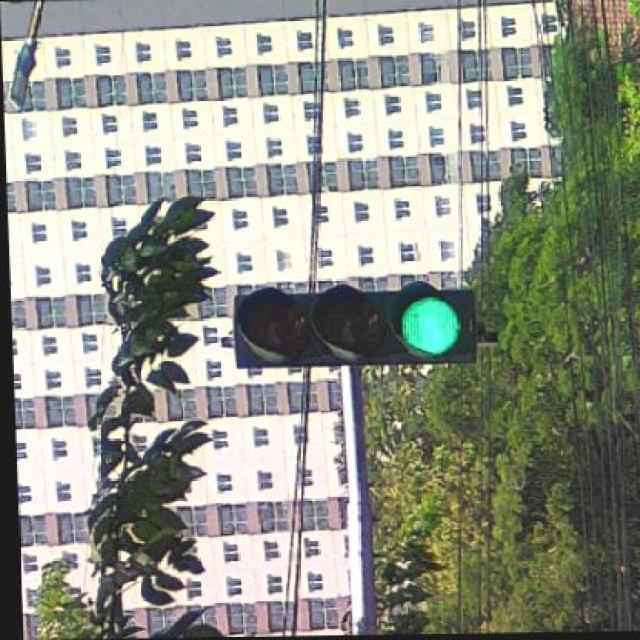traffic light: (233, 282, 478, 369), (392, 282, 477, 364)
